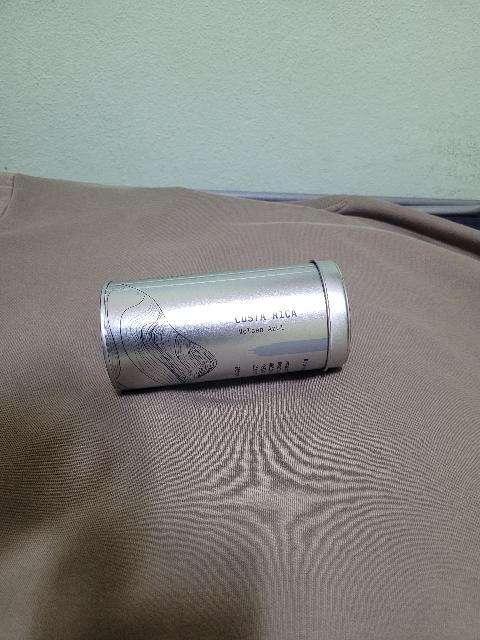Metal: (97, 257, 353, 392)
